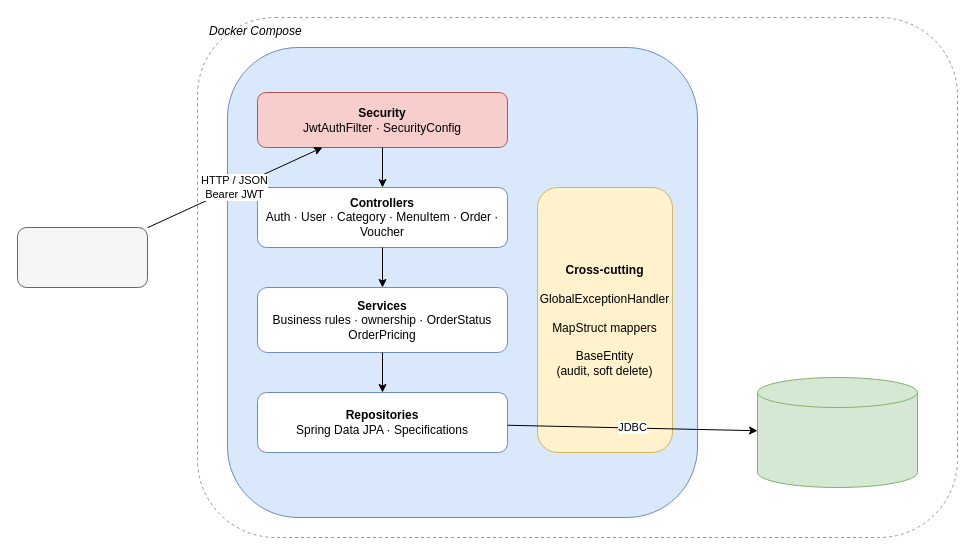
Some shapes in this 975 by 555 pixel diagram are drawn without their labels. Each missing label, with the box of its shape:
Client Postman / Frontend: (16, 226, 148, 288)
MySQL 8.4 db · coffeeshop :3307 → 3306: (756, 376, 918, 488)
Spring Boot monolith — app (:8080): (226, 46, 698, 518)
